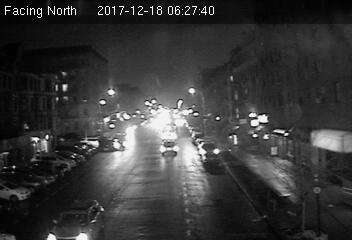car: (44, 196, 104, 240), (157, 138, 180, 157), (198, 142, 220, 156)
